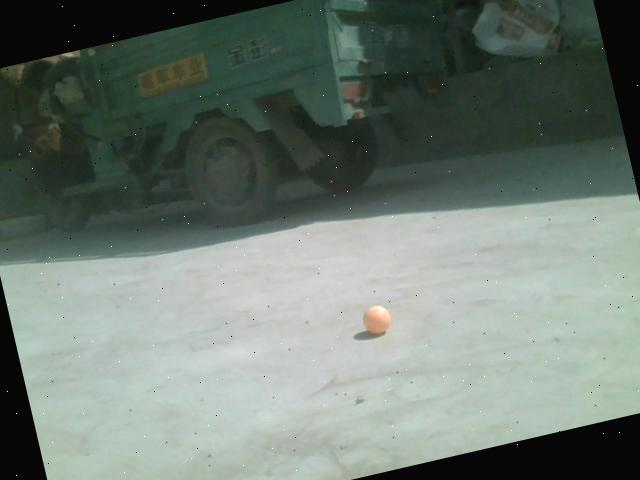ball: (362, 304, 393, 336)
